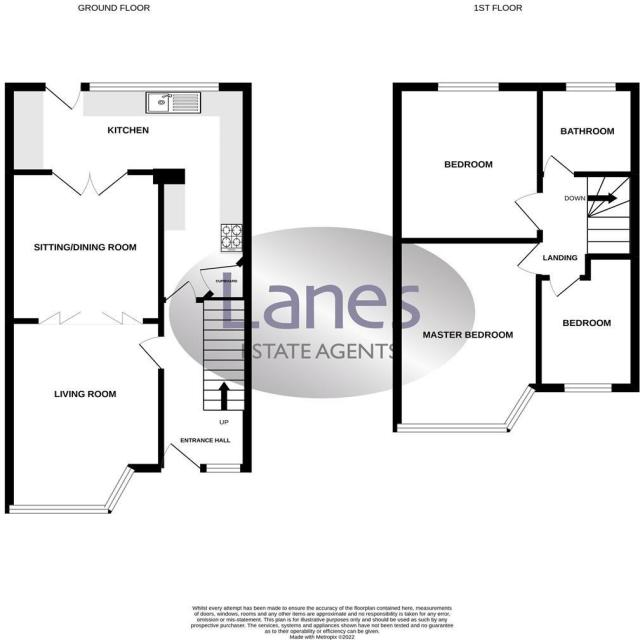DOOR: (512, 191, 543, 231), (162, 442, 201, 473), (43, 82, 82, 111), (137, 334, 164, 370), (515, 241, 543, 275), (541, 153, 576, 178), (163, 278, 197, 303), (548, 274, 581, 299)
DOUBLE DOOR: (50, 169, 128, 200)
ROOM: (4, 169, 165, 515), (5, 81, 252, 303), (392, 237, 543, 433), (392, 82, 544, 244), (535, 251, 639, 393)
WINDOW: (395, 384, 538, 433), (8, 465, 137, 514), (88, 81, 219, 92), (436, 82, 501, 93), (564, 82, 618, 93), (563, 382, 613, 393), (205, 463, 241, 473)
